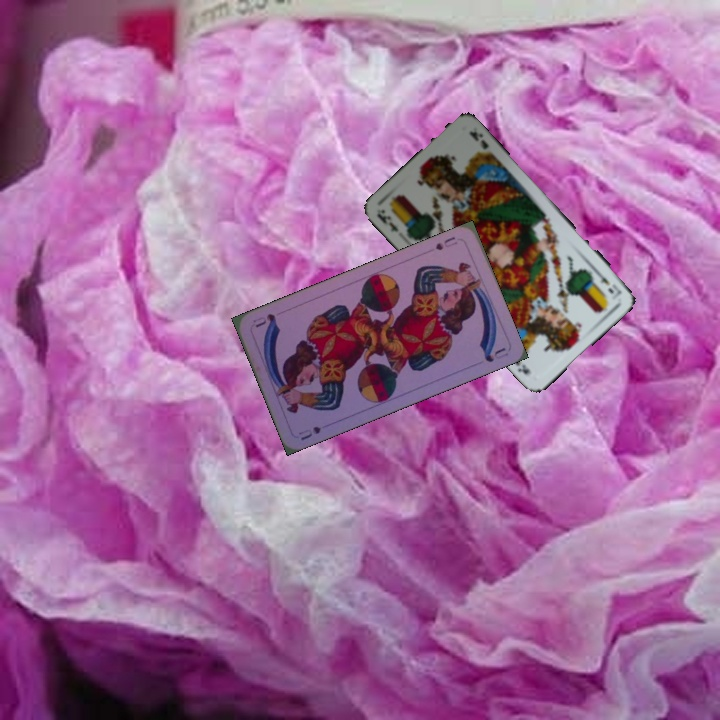EK: (590, 265, 624, 300), (373, 210, 401, 235)
SU: (294, 422, 323, 443), (431, 232, 460, 253)
